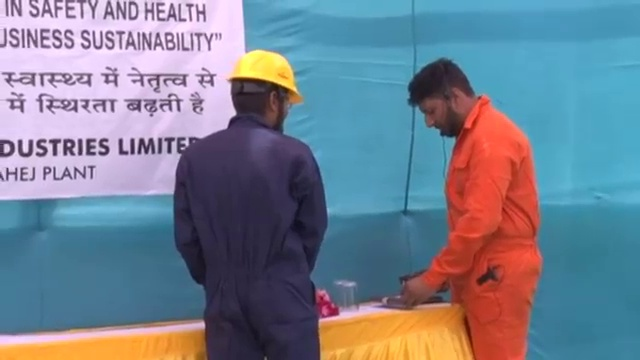helmet: (226, 50, 303, 103)
helmet_off: (407, 55, 482, 140)
helmet_on: (226, 50, 304, 132)
person: (169, 50, 329, 360), (399, 54, 544, 360)
